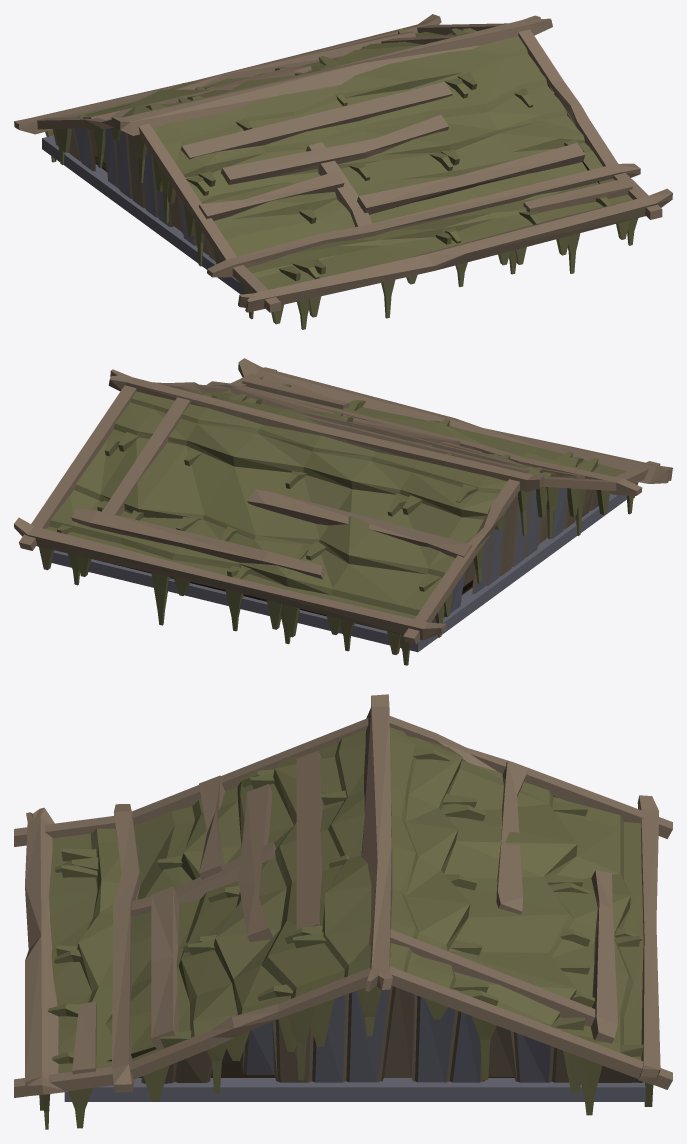
File: SM_Bld_Shanty_Roof_01.glb
3 renders of one model, top to bottom at view 1: azimuth 30°, elevation 25°; view 2: azimuth 150°, elevation 25°; view 3: azimuth 270°, elevation 25°, orthographic. The views are drawn at different scales.
Visible parts, largest first — view 1: SM_Bld_Shanty_Roof_01_part00; view 2: SM_Bld_Shanty_Roof_01_part00; view 3: SM_Bld_Shanty_Roof_01_part00.
Boxes of the visible parts, x1,y1,x2,y2 form: SM_Bld_Shanty_Roof_01_part00: (14, 14, 672, 329); SM_Bld_Shanty_Roof_01_part00: (14, 358, 672, 665); SM_Bld_Shanty_Roof_01_part00: (14, 694, 672, 1129).
Size of the model in its own units: 5.94 by 1.89 by 5.79.
1 material, 1 textured.
